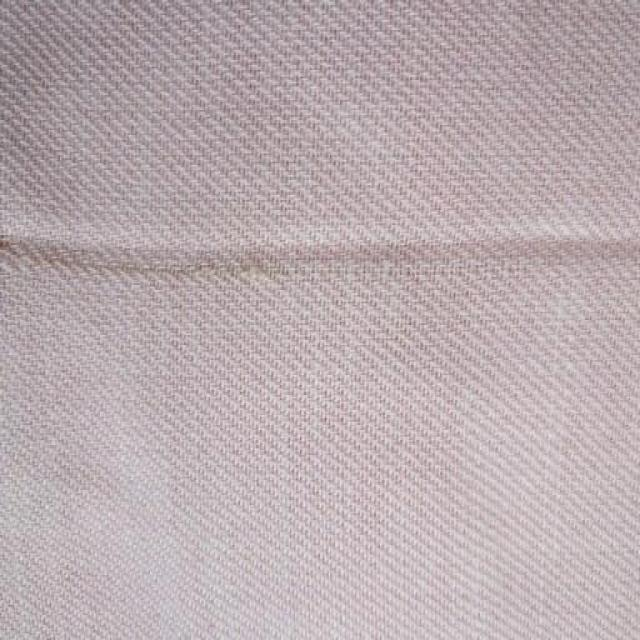Line: (0, 237, 640, 272)
